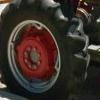Tractor: (6, 3, 100, 94)
